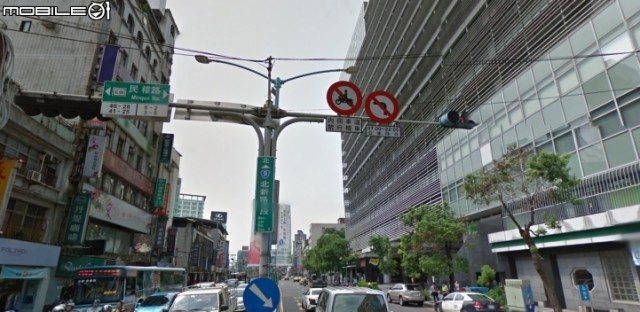No_left_turn: (366, 91, 399, 124)
